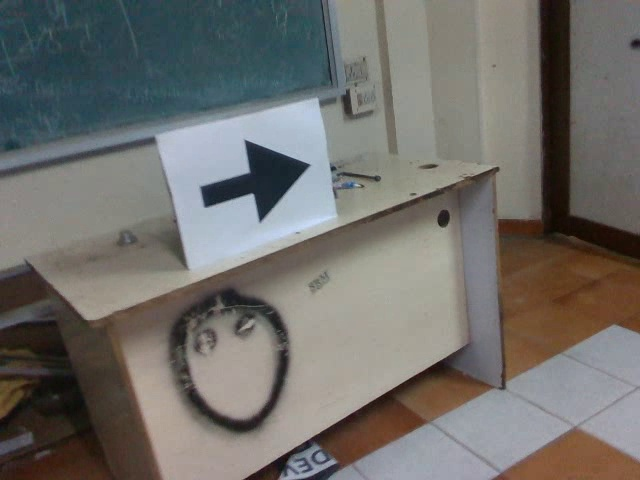Right: (189, 136, 310, 227)
